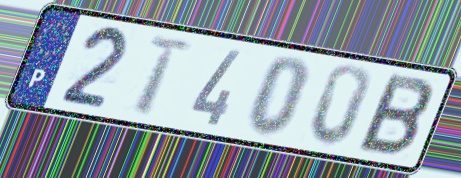0: (305, 63, 375, 150), (245, 54, 313, 140)
2: (57, 22, 130, 115)
4: (188, 48, 243, 128)
B: (353, 70, 437, 160)
T: (132, 33, 194, 119)
